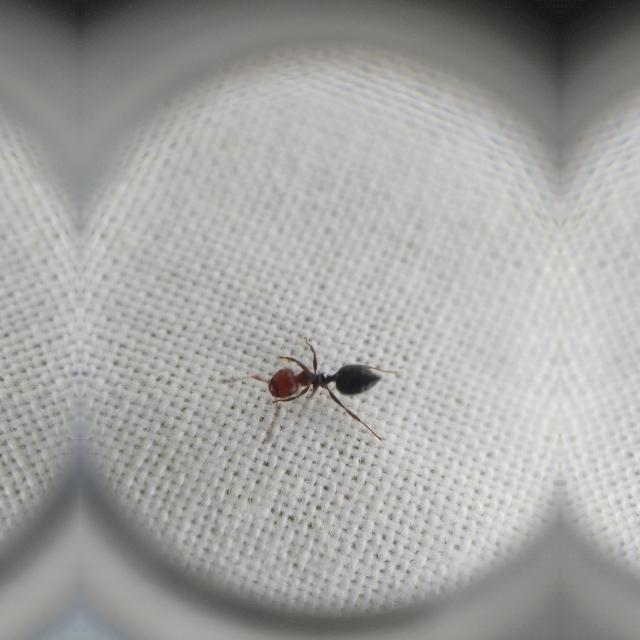Crematogaster: (247, 341, 383, 425)
